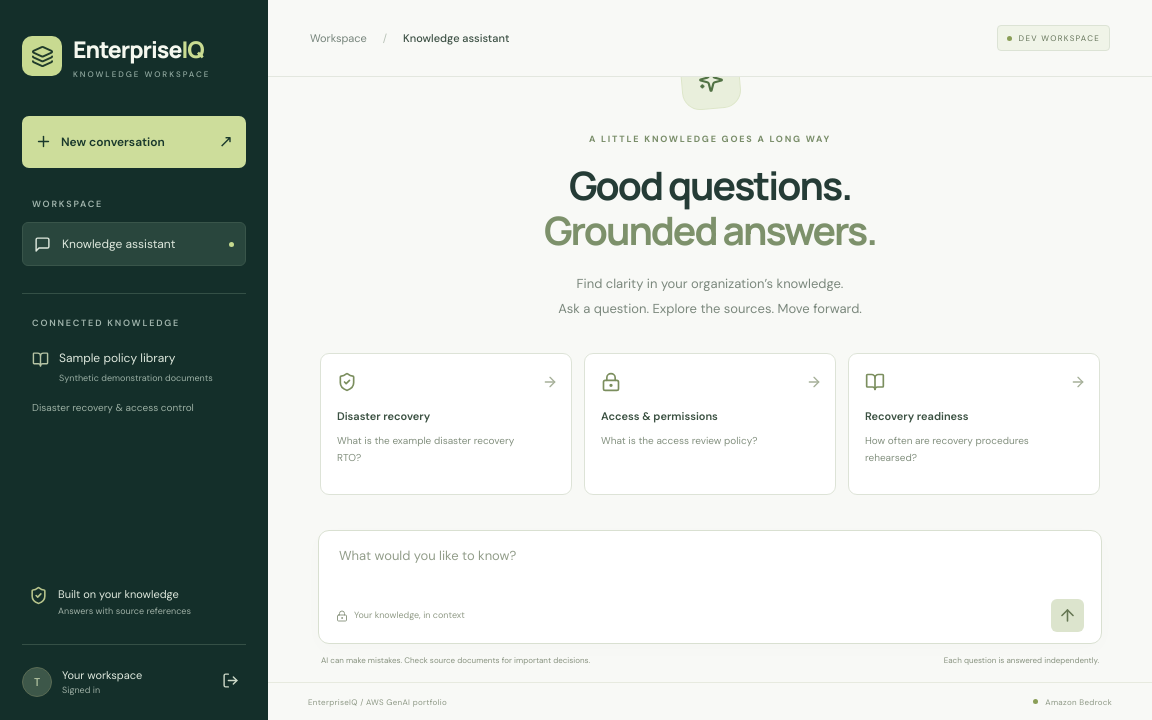
Test: workspace › ignores an answer that arrives after sign out
Step 1. Type "RTO?" into the text box named "Ask a question" → (710, 569), box x1=336 y1=546 x2=1084 y2=592
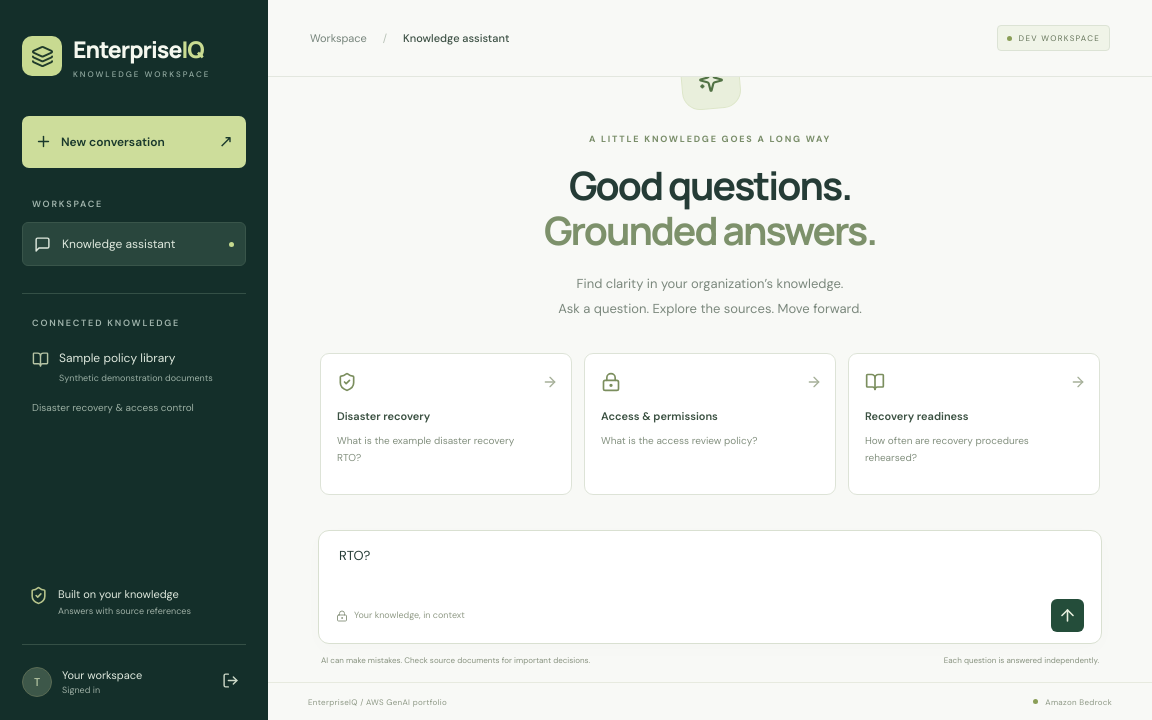
Step 2. Click the button named "Send question" → (1068, 616), box x1=1051 y1=599 x2=1084 y2=632
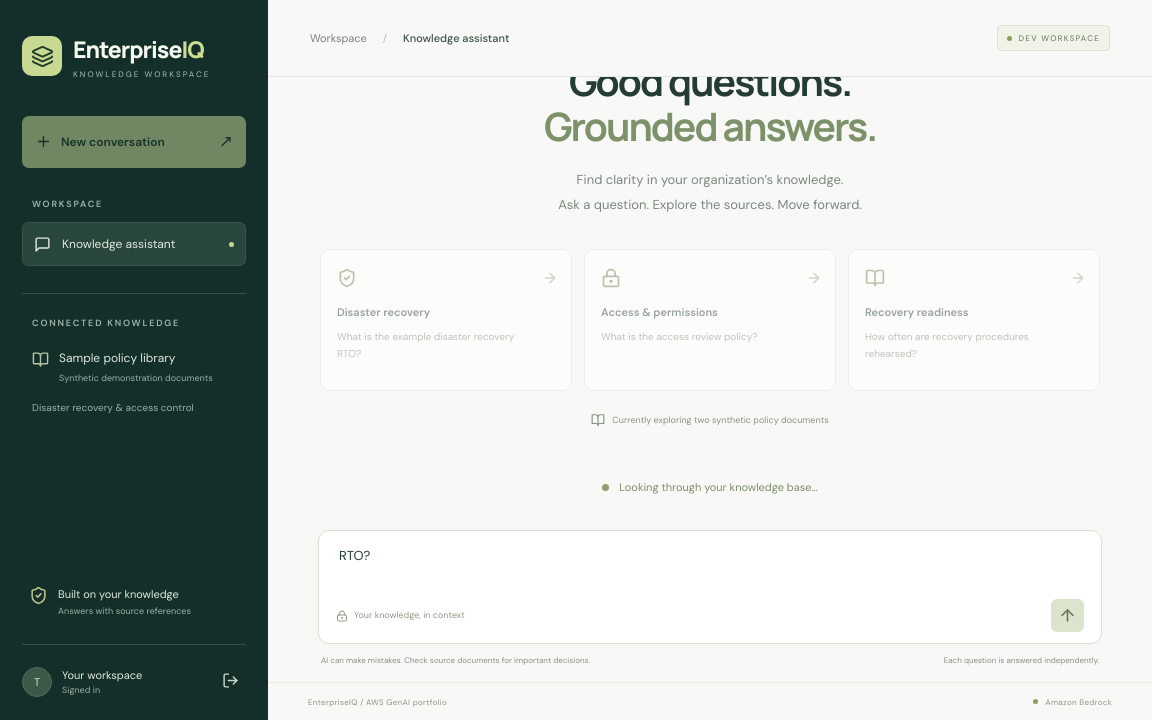
Step 3. Click the button named "Sign out" → (230, 682), box x1=215 y1=664 x2=246 y2=700
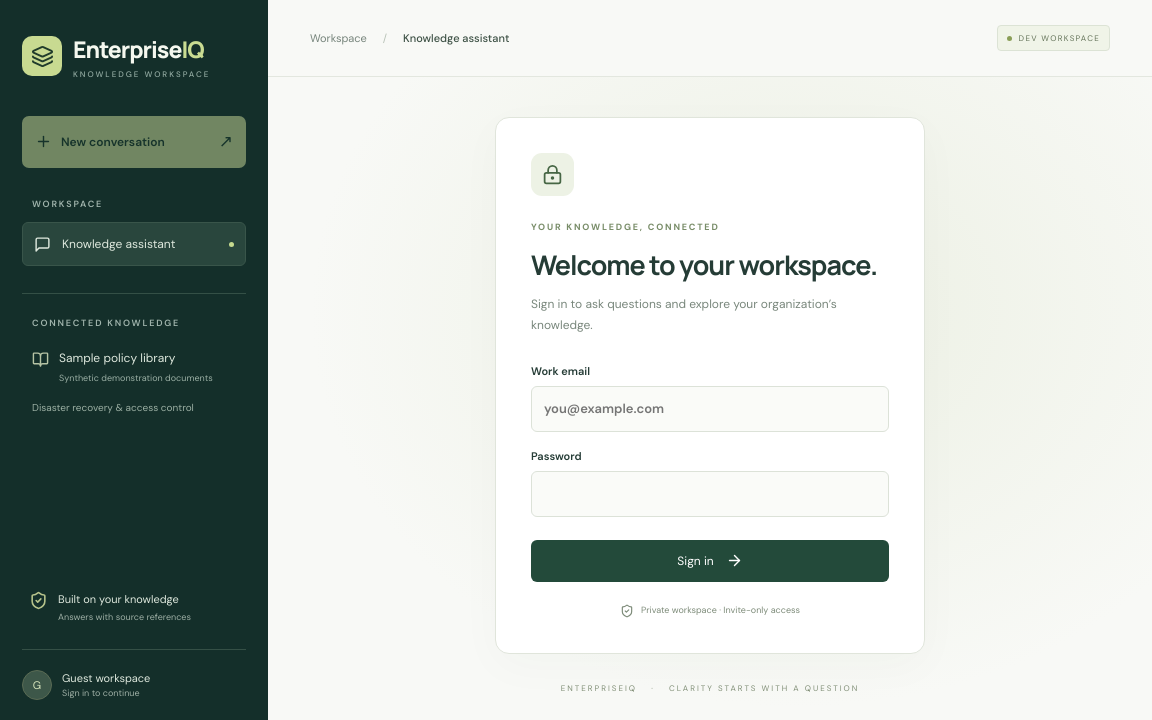
Check: the field labelled "Work email" is shown, box x1=531 y1=386 x2=889 y2=432
